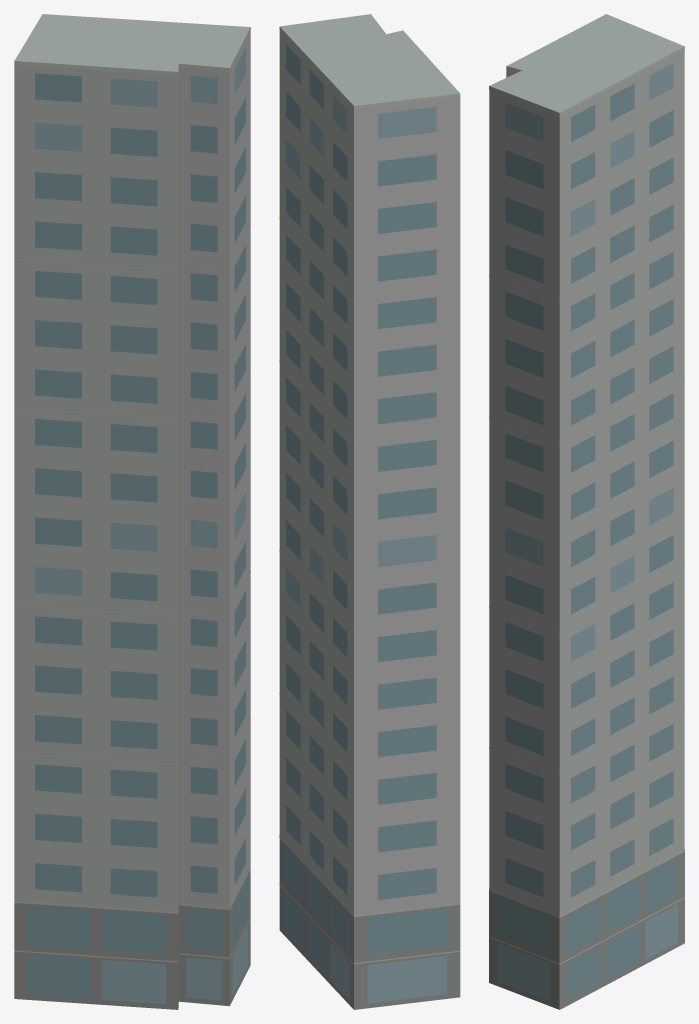
The model's file is survey-upis-32959072.glb.
3 renders of one model, left to right at view 1: azimuth 30°, elevation 25°; view 2: azimuth 150°, elevation 25°; view 3: azimuth 270°, elevation 25°, orthographic. The views are drawn at different scales.
Parts seen in each view (by area): view 1: survey-upis-32959072.tmp; view 2: survey-upis-32959072.tmp; view 3: survey-upis-32959072.tmp.
Boxes of the visible parts, bbox=[...] form: survey-upis-32959072.tmp: bbox=[14, 14, 250, 1009]; survey-upis-32959072.tmp: bbox=[279, 14, 460, 1009]; survey-upis-32959072.tmp: bbox=[489, 14, 684, 1009].
Size of the model in its own units: 13.72 by 57.95 by 11.47.
